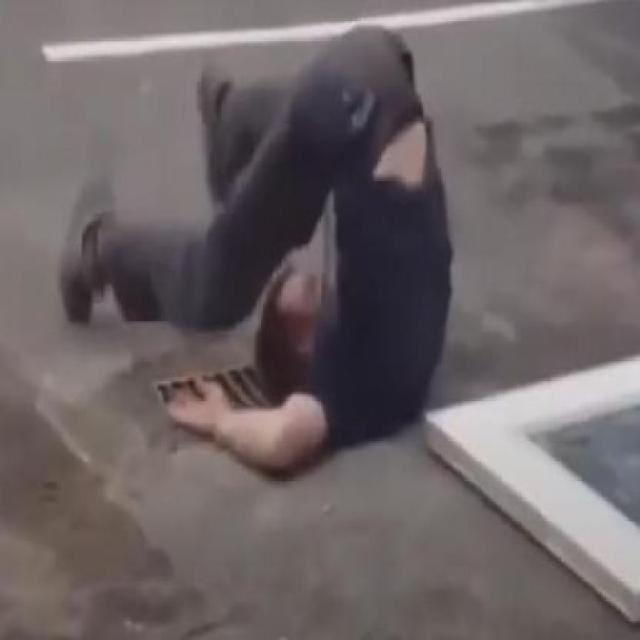fall: (59, 14, 452, 474)
